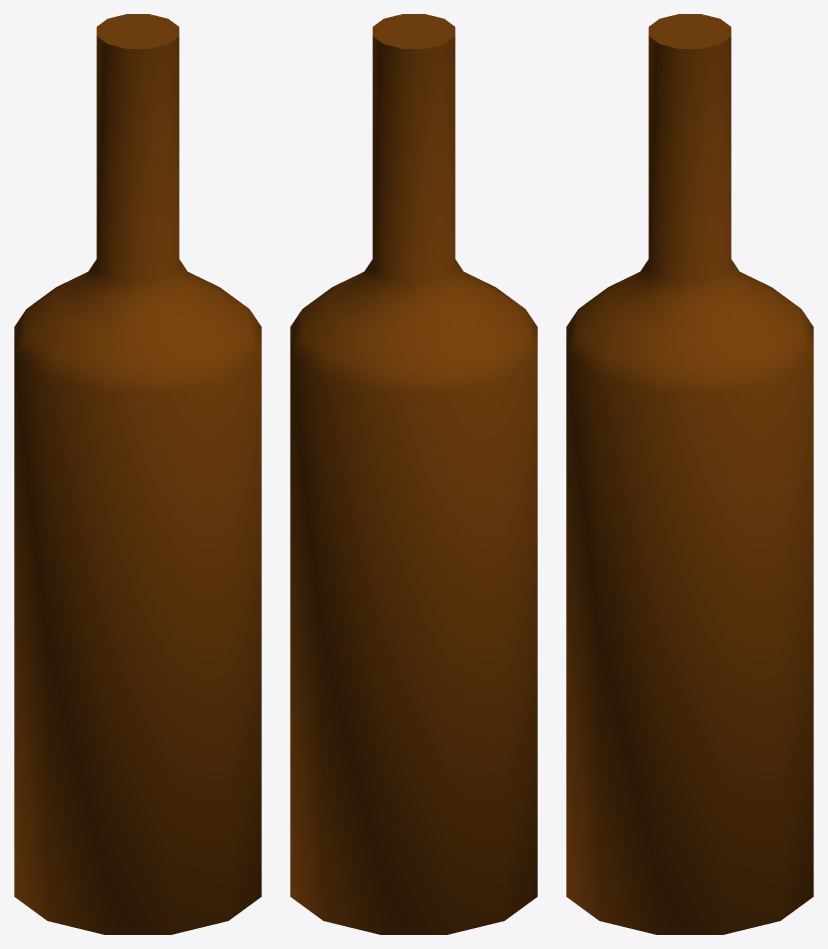
The picture shows the model from 3 angles, left to right: view 1: azimuth 30°, elevation 25°; view 2: azimuth 150°, elevation 25°; view 3: azimuth 270°, elevation 25°; orthographic projection.
Visible parts, largest first — view 1: mesh1_mesh1-geometry; view 2: mesh1_mesh1-geometry; view 3: mesh1_mesh1-geometry.
Part boxes in pixels (x1,y1,x2,y2): mesh1_mesh1-geometry: (14,14,261,934); mesh1_mesh1-geometry: (290,14,537,934); mesh1_mesh1-geometry: (566,14,813,934).
Bounding box in the file's own units: 0.2469 × 0.9371 × 0.2469.
